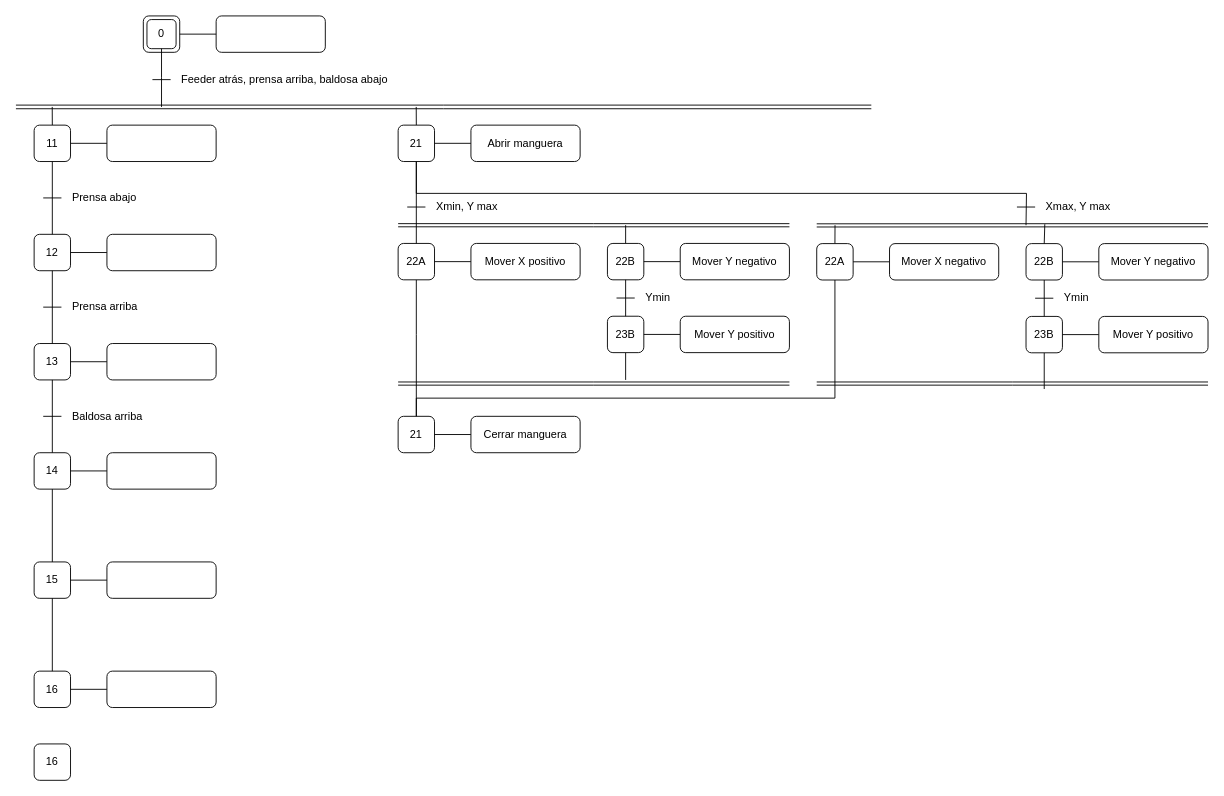
This 1224x796 diagram has some shape labels left out. The box of each missing label's shape, as (x1, y1, x2, y2) in pixels:
Bajar baldosa: (106, 561, 216, 598)
Bajar Prensa: (106, 124, 216, 162)
Feeder adelante: (106, 452, 216, 489)
Feeder atrás: (106, 670, 216, 708)
Iniciar Prensado: (215, 15, 325, 52)
Subir baldosa: (106, 343, 216, 380)
Subir Prensa: (106, 233, 216, 271)
